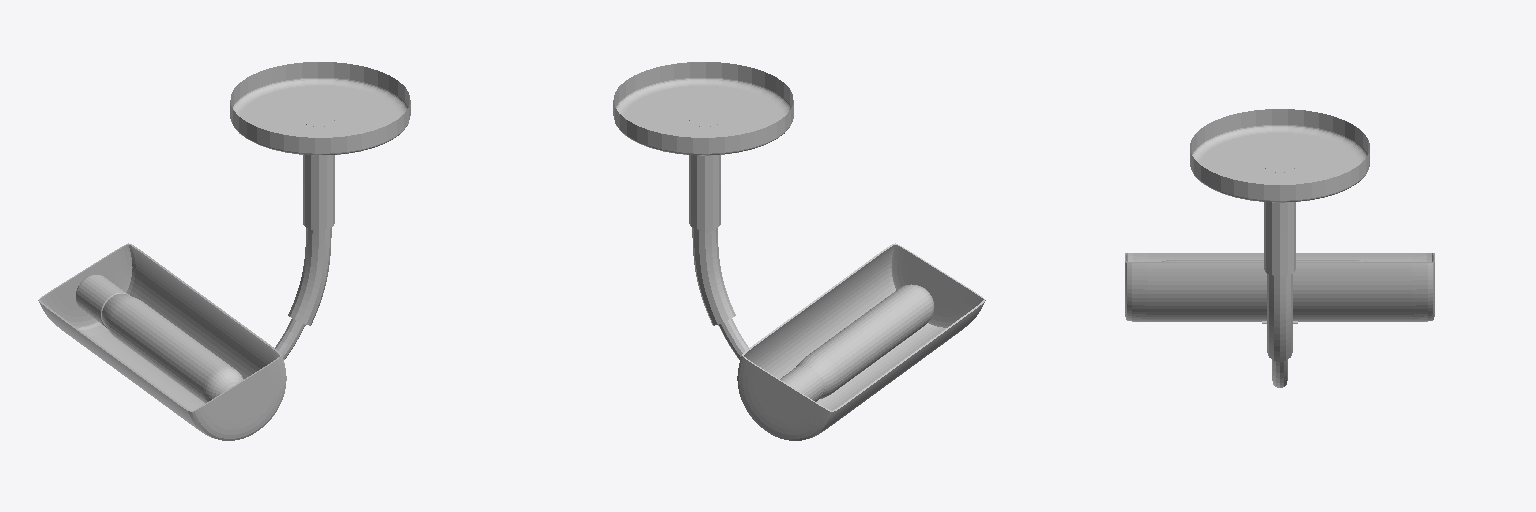
The model's file is lamp1.obj.
3 views of the same model, side by side, from view 1: azimuth 30°, elevation 25°; view 2: azimuth 150°, elevation 25°; view 3: azimuth 270°, elevation 25° (orthographic).
Visible parts, largest first — view 1: desklamp; view 2: desklamp; view 3: desklamp.
Part boxes in pixels (left/top/right/bottom): desklamp: left=38, top=62, right=410, bottom=440; desklamp: left=613, top=62, right=985, bottom=440; desklamp: left=1125, top=109, right=1434, bottom=387.
Bounding box in the file's own units: 6.79 × 6.39 × 6.41.